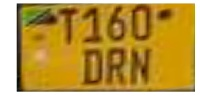T: (58, 6, 81, 46)
